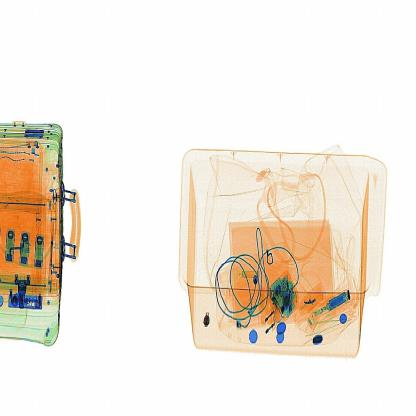wrench: (198, 310, 220, 338)
